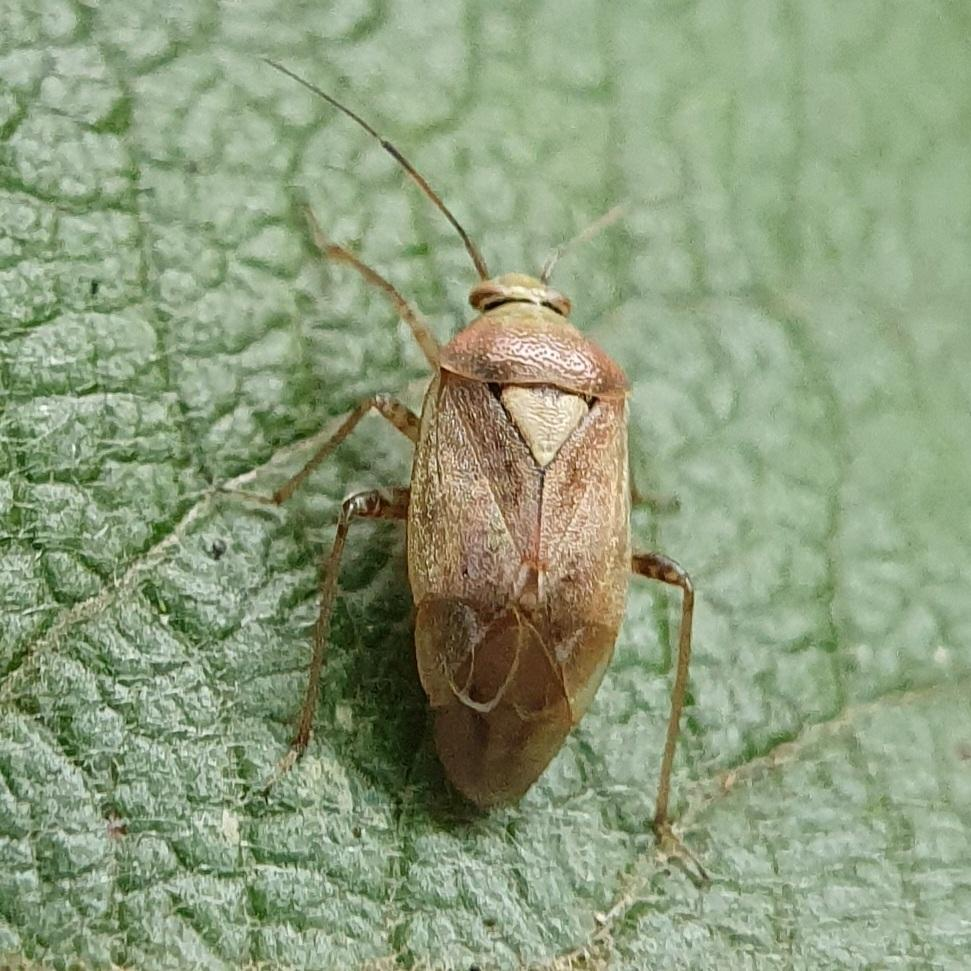plant_bugs: (201, 2, 785, 971)
